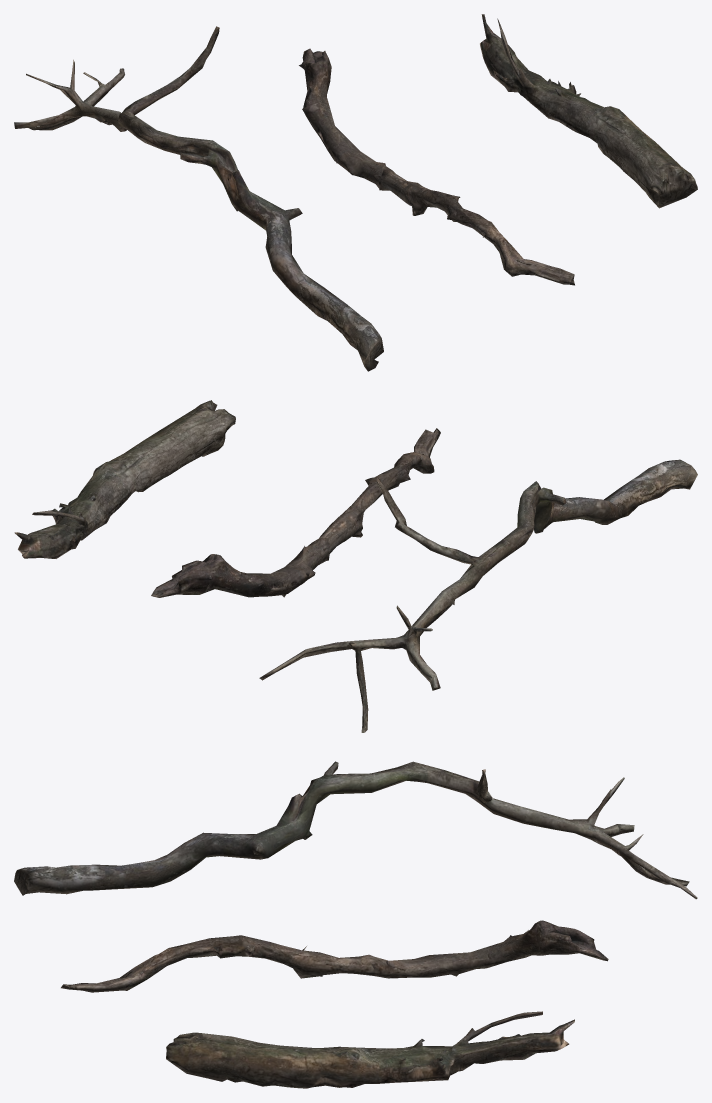
Rendered from dry_branches_medium_01.glb.
3 views of the same model, one above another, from view 1: azimuth 30°, elevation 25°; view 2: azimuth 150°, elevation 25°; view 3: azimuth 270°, elevation 25° (orthographic). The views are drawn at different scales.
Parts seen in each view (by area): view 1: dry_branches_medium_01_a, dry_branches_medium_01_c, dry_branches_medium_01_b; view 2: dry_branches_medium_01_a, dry_branches_medium_01_c, dry_branches_medium_01_b; view 3: dry_branches_medium_01_a, dry_branches_medium_01_c, dry_branches_medium_01_b.
Boxes of the visible parts, x1=… form: dry_branches_medium_01_a: x1=14, y1=26, x2=383, y2=371; dry_branches_medium_01_c: x1=480, y1=14, x2=697, y2=208; dry_branches_medium_01_b: x1=299, y1=48, x2=574, y2=285; dry_branches_medium_01_a: x1=259, y1=459, x2=697, y2=732; dry_branches_medium_01_c: x1=14, y1=400, x2=235, y2=558; dry_branches_medium_01_b: x1=151, y1=428, x2=440, y2=597; dry_branches_medium_01_a: x1=14, y1=761, x2=697, y2=899; dry_branches_medium_01_c: x1=166, y1=1011, x2=574, y2=1088; dry_branches_medium_01_b: x1=61, y1=920, x2=608, y2=992.
Bounding box in the file's own units: 1.05 × 0.3379 × 1.3.
1 material, 1 textured.
